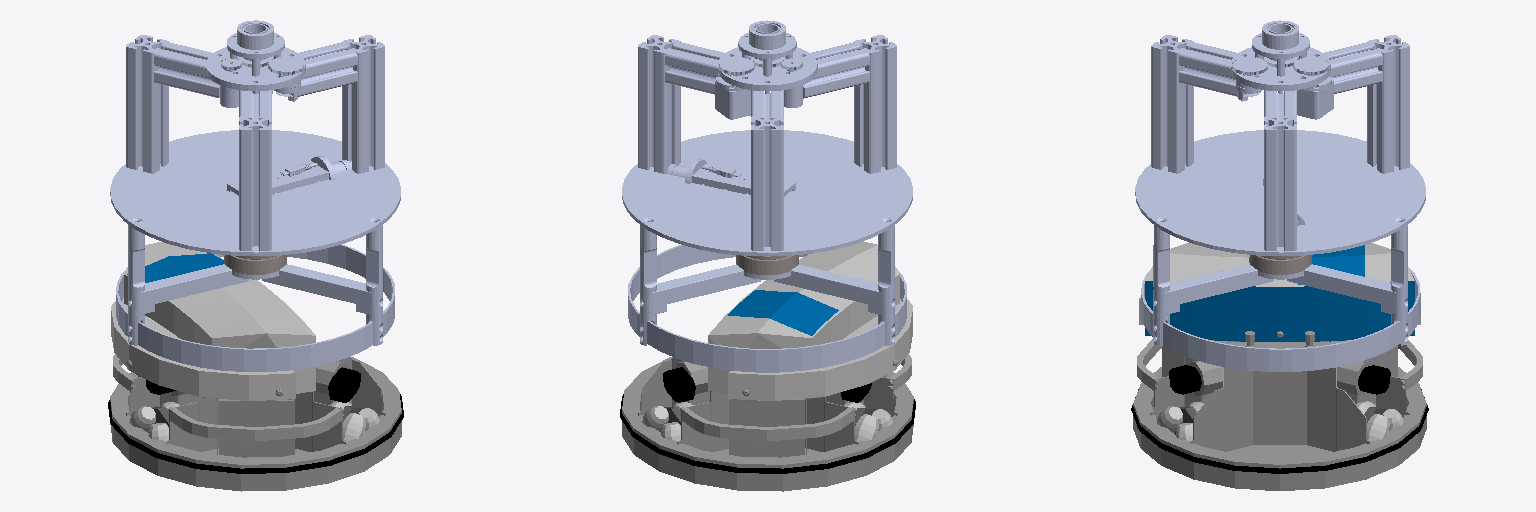
robot.urdf — robotino:
<?xml version="1.0" encoding="utf-8"?>
<!-- =================================================================================== -->
<!-- |    This document was autogenerated by xacro from robotino_sim.urdf.xacro        | -->
<!-- |    EDITING THIS FILE BY HAND IS NOT RECOMMENDED                                 | -->
<!-- =================================================================================== -->
<robot name="robotino">
  <!-- 20 -->
  <!-- Space btw top of beam and the each joint -->
  <!-- Space btw top of beam and the each joint -->
  <link name="world"/>
  <joint name="joint_x" type="prismatic">
    <parent link="world"/>
    <child link="int_link_xy"/>
    <origin rpy="0 0 0" xyz="0 0 0"/>
    <axis xyz="1 0 0"/>
    <limit effort="10" lower="-1000" upper="1000" velocity="10"/>
  </joint>
  <link name="int_link_xy">
    <inertial>
      <mass value="0.1"/>
      <origin xyz="0 0 0"/>
      <inertia ixx="0.0001" ixy="0.0" ixz="0.0" iyy="0.0001" iyz="0.0" izz="0.0001"/>
    </inertial>
  </link>
  <joint name="joint_y" type="prismatic">
    <parent link="int_link_xy"/>
    <child link="int_link_yw"/>
    <origin rpy="0 0 0" xyz="0 0 0"/>
    <axis xyz="0 1 0"/>
    <limit effort="10" lower="-1000" upper="1000" velocity="10"/>
  </joint>
  <link name="int_link_yw">
    <inertial>
      <mass value="0.1"/>
      <origin xyz="0 0 0"/>
      <inertia ixx="0.0001" ixy="0.0" ixz="0.0" iyy="0.0001" iyz="0.0" izz="0.0001"/>
    </inertial>
  </link>
  <joint name="revolute_w" type="continuous">
    <origin rpy="0 0 0" xyz="0 0 0"/>
    <parent link="int_link_yw"/>
    <child link="base_link"/>
    <axis xyz="0 0 1"/>
  </joint>
  <!-- base_link -->
  <link name="base_link"/>
  <joint name="base_body_joint" type="fixed">
    <parent link="base_link"/>
    <child link="base_body_link"/>
    <origin rpy="0 0 0" xyz="0 0 0"/>
  </joint>
  <link name="base_body_link">
    <inertial>
      <mass value="0.5"/>
      <origin xyz="0 0 0.05"/>
      <inertia ixx="0.8750" ixy="0.0" ixz="0.0" iyy="0.875" iyz="0.0" izz="1"/>
    </inertial>
    <visual>
      <origin rpy="0 0 1.570795" xyz="0.01 0 0"/>
      <geometry>
        <mesh filename="package://robotino_description/meshes/parts/robotino_base.dae" scale="0.01 0.01 0.01"/>
      </geometry>
    </visual>
    <collision>
      <origin rpy="0 0 1.570795" xyz="0 0 0"/>
      <geometry>
        <mesh filename="package://robotino_description/meshes/parts/robotino_base.stl" scale="0.01 0.01 0.01"/>
      </geometry>
    </collision>
  </link>
  <gazebo reference="base_link">
    <material>Gazebo/White</material>
    <turnGravityOff>false</turnGravityOff>
  </gazebo>
  <link name="wheel0_link">
    <inertial>
      <mass value="2"/>
      <origin rpy="0 0 0" xyz="0 0 0"/>
      <inertia ixx="0.04" ixy="0.0" ixz="0.0" iyy="0.04" iyz="0.0" izz="0.04"/>
    </inertial>
    <visual>
      <origin rpy="0 0 0" xyz="0 0 0"/>
      <geometry>
        <mesh filename="package://robotino_description/meshes/parts/robotino_wheel.dae" scale="0.01 0.01 0.01"/>
      </geometry>
    </visual>
    <collision>
      <origin rpy="0 1.570795 0" xyz="0 0 0"/>
      <geometry>
        <cylinder length="0.04" radius="0.04"/>
      </geometry>
    </collision>
  </link>
  <gazebo reference="wheel0_link">
    <material>Gazebo/Yellow</material>
    <turnGravityOff>false</turnGravityOff>
    <kp value="1000000"/>
    <kd value="1"/>
    <mu2 value="0"/>
    <mu1 value="0"/>
  </gazebo>
  <joint name="wheel0_joint" type="continuous">
    <origin rpy="0 0 1.04719666667" xyz="0.065 0.11 0.04"/>
    <axis xyz="-1 0 0"/>
    <parent link="base_link"/>
    <child link="wheel0_link"/>
  </joint>
  <link name="wheel1_link">
    <inertial>
      <mass value="2"/>
      <origin rpy="0 0 0" xyz="0 0 0"/>
      <inertia ixx="0.04" ixy="0.0" ixz="0.0" iyy="0.04" iyz="0.0" izz="0.04"/>
    </inertial>
    <visual>
      <origin rpy="0 0 0" xyz="0 0 0"/>
      <geometry>
        <mesh filename="package://robotino_description/meshes/parts/robotino_wheel.dae" scale="0.01 0.01 0.01"/>
      </geometry>
    </visual>
    <collision>
      <origin rpy="0 1.570795 0" xyz="0 0 0"/>
      <geometry>
        <cylinder length="0.04" radius="0.04"/>
      </geometry>
    </collision>
  </link>
  <gazebo reference="wheel1_link">
    <material>Gazebo/Yellow</material>
    <turnGravityOff>false</turnGravityOff>
    <kp value="1000000"/>
    <kd value="1"/>
    <mu2 value="0"/>
    <mu1 value="0"/>
  </gazebo>
  <joint name="wheel1_joint" type="continuous">
    <origin rpy="0 0 3.14159" xyz="-0.13 0 0.04"/>
    <axis xyz="1 0 0"/>
    <parent link="base_link"/>
    <child link="wheel1_link"/>
  </joint>
  <link name="wheel2_link">
    <inertial>
      <mass value="2"/>
      <origin rpy="0 0 0" xyz="0 0 0"/>
      <inertia ixx="0.04" ixy="0.0" ixz="0.0" iyy="0.04" iyz="0.0" izz="0.04"/>
    </inertial>
    <visual>
      <origin rpy="0 0 0" xyz="0 0 0"/>
      <geometry>
        <mesh filename="package://robotino_description/meshes/parts/robotino_wheel.dae" scale="0.01 0.01 0.01"/>
      </geometry>
    </visual>
    <collision>
      <origin rpy="0 1.570795 0" xyz="0 0 0"/>
      <geometry>
        <cylinder length="0.04" radius="0.04"/>
      </geometry>
    </collision>
  </link>
  <gazebo reference="wheel2_link">
    <material>Gazebo/Yellow</material>
    <turnGravityOff>false</turnGravityOff>
    <kp value="1000000"/>
    <kd value="1"/>
    <mu2 value="0"/>
    <mu1 value="0"/>
  </gazebo>
  <joint name="wheel2_joint" type="continuous">
    <origin rpy="0 0 -1.04719666667" xyz="0.065 -0.11 0.04"/>
    <axis xyz="-1 0 0"/>
    <parent link="base_link"/>
    <child link="wheel2_link"/>
  </joint>
  <link name="lasersensor_link">
    <inertial>
      <origin rpy="0 0 0" xyz="-0.00056497 7.11770000114844E-09 0.018756"/>
      <mass value="0.015915"/>
      <inertia ixx="7.2795244626149E-05" ixy="8.59363271873857E-12" ixz="-1.00192037963258E-06" iyy="7.06968247556297E-05" iyz="-1.1608849365102E-11" izz="0.000102602650447107"/>
    </inertial>
    <visual>
      <origin rpy="1.5707963267949 0 0" xyz="0 0 -0.018756"/>
      <geometry>
        <mesh filename="package://robotino_description/lidar/meshes/lidar.STL"/>
      </geometry>
      <material name="">
        <color rgba="0.64314 0.61569 0.6 1"/>
      </material>
    </visual>
    <collision>
      <origin rpy="1.5707963267949 0 0" xyz="0 0 -0.018756"/>
      <geometry>
        <mesh filename="package://robotino_description/lidar/meshes/lidar.STL"/>
      </geometry>
    </collision>
  </link>
  <gazebo reference="lasersensor_link">
    <material>Gazebo/Black</material>
    <turnGravityOff>false</turnGravityOff>
  </gazebo>
  <joint name="lasersensor_joint" type="fixed">
    <origin rpy="0 0 0" xyz="0.0 0 0.26"/>
    <parent link="base_link"/>
    <child link="lasersensor_link"/>
  </joint>
  <link name="pantilt_link">
    <inertial>
      <origin rpy="0 0 0" xyz="-0.00076068 0.053384 -0.00086946"/>
      <mass value="0.17709"/>
      <inertia ixx="0.022066" ixy="0.00017957" ixz="-1.0212E-05" iyy="0.016545" iyz="0.00019743" izz="0.022127"/>
    </inertial>
    <visual>
      <origin rpy="0 0 0" xyz="0 0 0"/>
      <geometry>
        <mesh filename="package://robotino_description/pantiltholder/meshes/camerabase_Link.STL"/>
      </geometry>
      <material name="">
        <color rgba="0.79216 0.81961 0.93333 1"/>
      </material>
    </visual>
    <collision>
      <origin rpy="0 0 0" xyz="0 0 0"/>
      <geometry>
        <mesh filename="package://robotino_description/pantiltholder/meshes/camerabase_Link.STL"/>
      </geometry>
    </collision>
  </link>
  <gazebo reference="pantilt_link">
    <turnGravityOff>false</turnGravityOff>
  </gazebo>
  <joint name="pantilt_joint" type="fixed">
    <origin rpy="0 0 0" xyz="0.0 0 0.33"/>
    <parent link="base_link"/>
    <child link="pantilt_link"/>
  </joint>
  <link name="pantiltring_link">
    <inertial>
      <origin rpy="0 0 0" xyz="4.0968E-16 -0.015 9.18454765366783E-19"/>
      <mass value="0.094154"/>
      <inertia ixx="0.001312241311471" ixy="-6.9590790831882E-33" ixz="-1.3339474659106E-34" iyy="0.00261035959316777" iyz="-7.94841947889434E-20" izz="0.00131224131147099"/>
    </inertial>
    <visual>
      <origin rpy="0 0 0" xyz="0 0 0"/>
      <geometry>
        <mesh filename="package://robotino_description/ring/meshes/ring.STL"/>
      </geometry>
      <material name="">
        <color rgba="0.79216 0.81961 0.93333 1"/>
      </material>
    </visual>
    <collision>
      <origin rpy="0 0 0" xyz="0 0 0"/>
      <geometry>
        <mesh filename="package://robotino_description/ring/meshes/ring.STL"/>
      </geometry>
    </collision>
  </link>
  <gazebo reference="pantiltring_link">
    <turnGravityOff>false</turnGravityOff>
  </gazebo>
  <joint name="pantiltring_joint" type="fixed">
    <origin rpy="0 0 0" xyz="0.0 0 0.173"/>
    <parent link="base_link"/>
    <child link="pantiltring_link"/>
  </joint>
  <link name="cameraholder_link">
    <inertial>
      <origin rpy="0 0 0" xyz="0.08119 -9.6149E-11 -0.006335"/>
      <mass value="0.061321"/>
      <inertia ixx="1.6538E-06" ixy="1.156E-14" ixz="1.0178E-05" iyy="7.7966E-05" iyz="-6.9072E-14" izz="7.6312E-05"/>
    </inertial>
    <visual>
      <origin rpy="0 0 0" xyz="0 0 -0.32"/>
      <geometry>
        <mesh filename="package://robotino_description/pantiltholder/meshes/cameraholder_Link.STL"/>
      </geometry>
      <material name="">
        <color rgba="0.79216 0.81961 0.93333 1"/>
      </material>
    </visual>
    <collision>
      <origin rpy="0 0 0" xyz="0 0 0"/>
      <geometry>
        <mesh filename="package://robotino_description/pantiltholder/meshes/cameraholder_Link.STL"/>
      </geometry>
    </collision>
  </link>
  <joint name="cameraholder_joint" type="continuous">
    <origin rpy="0 0 0" xyz="0.0 0 0.32"/>
    <origin rpy="0.050256 -1.5708 0" xyz="0 0 0"/>
    <parent link="pantilt_link"/>
    <child link="cameraholder_link"/>
    <axis xyz="0 0 1"/>
  </joint>
  <transmission name="cameraholder_joint_trans">
    <type>transmission_interface/SimpleTransmission</type>
    <joint name="cameraholder_joint">
      <hardwareInterface>hardware_interface/PositionJointInterface</hardwareInterface>
    </joint>
    <actuator name="cameraholder_motor">
      <hardwareInterface>hardware_interface/PositionJointInterface</hardwareInterface>
      <mechanicalReducation>1</mechanicalReducation>
    </actuator>
  </transmission>
  <link name="imu_link">
    <visual>
      <origin rpy="0 0 0" xyz="0 0 0"/>
      <geometry>
        <box size="0.018 0.016 0.007"/>
      </geometry>
      <material name="xsens-orange"/>
    </visual>
    <collision>
      <origin rpy="0 0 0" xyz="0 0 0"/>
      <geometry>
        <box size="0.057 0.041 0.024"/>
      </geometry>
    </collision>
    <inertial>
      <mass value="0"/>
      <origin xyz="0 0 0"/>
      <inertia ixx="1.60333333333e-05" ixy="0.0" ixz="0.0" iyy="2.80333333333e-05" iyz="0.0" izz="1.60333333333e-05"/>
    </inertial>
  </link>
  <joint name="cameraholder_link_to_imu_link" type="fixed">
    <parent link="cameraholder_link"/>
    <child link="imu_link"/>
    <origin rpy="0 0 0" xyz="0 0 0"/>
  </joint>
  <material name="xsens-orange">
    <color rgba="0.8862745098 0.56862745098 0.09019607843 1"/>
  </material>
  <!-- gazebo control -->
  <gazebo reference="lasersensor_link">
    <sensor name="head_hokuyo_sensor" type="ray">
      <pose>0 0 0 0 0 0</pose>
      <visualize>true</visualize>
      <update_rate>20</update_rate>
      <ray>
        <scan>
          <horizontal>
            <!-- <samples>720</samples> -->
            <samples>300</samples>
            <resolution>1</resolution>
            <min_angle>-3.14159</min_angle>
            <!-- -1.570796 -->
            <max_angle>+3.14159</max_angle>
            <!-- 1.570796 -->
          </horizontal>
        </scan>
        <range>
          <min>0.10</min>
          <max>12.0</max>
          <resolution>0.01</resolution>
        </range>
        <noise>
          <type>gaussian</type>
          <mean>0.0</mean>
          <stddev>0.01</stddev>
        </noise>
      </ray>
      <plugin filename="libgazebo_ros_laser.so" name="gazebo_ros_head_hokuyo_controller">
        <topicName>robot/laser/scan</topicName>
        <robotNamespace>/</robotNamespace>
        <frameName>lasersensor_link</frameName>
      </plugin>
    </sensor>
  </gazebo>
  <gazebo>
    <!--plugin name="object_controller" filename="libgazebo_ros_planar_move.so">
                <commandTopic>cmd_vel</commandTopic>
                <odometryTopic>odom</odometryTopic>
                <odometryFrame>odom</odometryFrame>
                <odometryRate>20</odometryRate>
                <robotBaseFrame>base_link</robotBaseFrame>
            </plugin-->
    <!--plugin name="robotino_odometry" filename="libgazebo_ros_p3d.so">
              <alwaysOn>true</alwaysOn>
              <updateRate>100.0</updateRate>
              <bodyName>base_link</bodyName>
              <topicName>odom</topicName>
              <gaussianNoise>0.0</gaussianNoise>
              <frameName>map</frameName>
              <xyzOffsets>0 0 0</xyzOffsets>
              <rpyOffsets>0 0 0</rpyOffsets>
            </plugin-->
    <plugin filename="librobotino_plugin.so" name="robotino_plugin">
      <jointName>wheel0_joint, wheel1_joint, wheel2_joint, joint_x, joint_y, revolute_w, cameraholder_joint
                </jointName>
    </plugin>
  </gazebo>
  <gazebo>
    <plugin filename="libgazebo_ros_control.so" name="gazebo_ros_control">
      <robotNamespace>/rrbot</robotNamespace>
    </plugin>
  </gazebo>
  <!-- imu -->
  <gazebo>
    <plugin filename="libhector_gazebo_ros_imu.so" name="imu_controller">
      <updateRate>50.0</updateRate>
      <bodyName>base_link</bodyName>
      <topicName>imu/data</topicName>
      <serviceName>imu_service</serviceName>
      <frame_id>odom</frame_id>
      <alwaysOn>true</alwaysOn>
      <accelDrift>0.005 0.005 0.005</accelDrift>
      <accelGaussianNoise>0.005 0.005 0.005</accelGaussianNoise>
      <rateDrift>0.005 0.005 0.005 </rateDrift>
      <rateGaussianNoise>0.005 0.005 0.005 </rateGaussianNoise>
      <headingDrift>0.005</headingDrift>
      <headingGaussianNoise>0.005</headingGaussianNoise>
    </plugin>
  </gazebo>
  <material name="aluminum">
    <color rgba="0.5 0.5 0.5 1"/>
  </material>
  <!-- camera body, with origin at bottom screw mount -->
  <joint name="camera_joint" type="fixed">
    <origin rpy="0 0 0" xyz="0 0 0"/>
    <parent link="cameraholder_link"/>
    <child link="camera_bottom_screw_frame"/>
  </joint>
  <link name="camera_bottom_screw_frame"/>
  <joint name="camera_link_joint" type="fixed">
    <origin rpy="1.57079632679 0 0" xyz="0.0175 0 0.0125"/>
    <!--origin xyz="0 ${d435_cam_depth_py} ${d435_cam_depth_pz}" rpy="0 0 0"/-->
    <parent link="camera_bottom_screw_frame"/>
    <child link="camera_link"/>
  </joint>
  <link name="camera_link">
    <visual>
      <origin rpy="1.57079632679 0 1.57079632679" xyz="0.0149 -0.0175 0"/>
      <geometry>
        <mesh filename="package://realsense2_description/meshes/d435.dae"/>
      </geometry>
    </visual>
    <collision>
      <origin rpy="0 0 0" xyz="0 -0.0175 0"/>
      <geometry>
        <box size="0.02505 0.09 0.025"/>
      </geometry>
    </collision>
    <inertial>
      <!-- The following are not reliable values, and should not be used for modeling -->
      <mass value="0.564"/>
      <origin xyz="0 0 0"/>
      <inertia ixx="0.003881243" ixy="0.0" ixz="0.0" iyy="0.000498940" iyz="0.0" izz="0.003879257"/>
    </inertial>
  </link>
  <!-- camera depth joints and links -->
  <joint name="camera_depth_joint" type="fixed">
    <origin rpy="0 0 0" xyz="0 0 0"/>
    <parent link="camera_link"/>
    <child link="camera_depth_frame"/>
  </joint>
  <link name="camera_depth_frame"/>
  <joint name="camera_depth_optical_joint" type="fixed">
    <origin rpy="-1.57079632679 0 -1.57079632679" xyz="0 0 0"/>
    <parent link="camera_depth_frame"/>
    <child link="camera_depth_optical_frame"/>
  </joint>
  <link name="camera_depth_optical_frame"/>
  <!-- camera left IR joints and links -->
  <joint name="camera_left_ir_joint" type="fixed">
    <origin rpy="0 0 0" xyz="0 0.0 0"/>
    <parent link="camera_depth_frame"/>
    <child link="camera_left_ir_frame"/>
  </joint>
  <link name="camera_left_ir_frame"/>
  <joint name="camera_left_ir_optical_joint" type="fixed">
    <origin rpy="-1.57079632679 0 -1.57079632679" xyz="0 0 0"/>
    <parent link="camera_left_ir_frame"/>
    <child link="camera_left_ir_optical_frame"/>
  </joint>
  <link name="camera_left_ir_optical_frame"/>
  <!-- camera right IR joints and links -->
  <joint name="camera_right_ir_joint" type="fixed">
    <origin rpy="0 0 0" xyz="0 -0.05 0"/>
    <parent link="camera_depth_frame"/>
    <child link="camera_right_ir_frame"/>
  </joint>
  <link name="camera_right_ir_frame"/>
  <joint name="camera_right_ir_optical_joint" type="fixed">
    <origin rpy="-1.57079632679 0 -1.57079632679" xyz="0 0 0"/>
    <parent link="camera_right_ir_frame"/>
    <child link="camera_right_ir_optical_frame"/>
  </joint>
  <link name="camera_right_ir_optical_frame"/>
  <!-- camera color joints and links -->
  <joint name="camera_color_joint" type="fixed">
    <origin rpy="0 0 0" xyz="0 0.015 0"/>
    <parent link="camera_depth_frame"/>
    <child link="camera_color_frame"/>
  </joint>
  <link name="camera_color_frame"/>
  <joint name="camera_color_optical_joint" type="fixed">
    <origin rpy="-1.57079632679 0 -1.57079632679" xyz="0 0 0"/>
    <parent link="camera_color_frame"/>
    <child link="camera_color_optical_frame"/>
  </joint>
  <link name="camera_color_optical_frame"/>
  <gazebo reference="camera_link">
    <self_collide>0</self_collide>
    <enable_wind>0</enable_wind>
    <kinematic>0</kinematic>
    <gravity>1</gravity>
    <!--<mu>1</mu>-->
    <mu2>1</mu2>
    <fdir1>0 0 0</fdir1>
    <!--<slip1>0</slip1>
      <slip2>0</slip2>-->
    <kp>1e+13</kp>
    <kd>1</kd>
    <!--<max_vel>0.01</max_vel>
      <min_depth>0</min_depth>-->
    <sensor name="cameracolor" type="camera">
      <camera name="camera">
        <horizontal_fov>1.4870205227</horizontal_fov>
        <!--69.4-->
        <image>
          <width>1280</width>
          <!--1920*1080-->
          <height>720</height>
          <format>RGB_INT8</format>
        </image>
        <clip>
          <near>0.1</near>
          <far>100</far>
        </clip>
        <noise>
          <type>gaussian</type>
          <mean>0.0</mean>
          <stddev>0.007</stddev>
        </noise>
      </camera>
      <always_on>1</always_on>
      <update_rate>30</update_rate>
      <visualize>1</visualize>
    </sensor>
    <sensor name="cameraired1" type="camera">
      <camera name="camera">
        <horizontal_fov>1.4870205227</horizontal_fov>
        <image>
          <width>1280</width>
          <height>720</height>
          <format>L_INT8</format>
        </image>
        <clip>
          <near>0.1</near>
          <far>100</far>
        </clip>
        <noise>
          <type>gaussian</type>
          <mean>0.0</mean>
          <stddev>0.05</stddev>
        </noise>
      </camera>
      <always_on>0</always_on>
      <update_rate>90</update_rate>
      <visualize>0</visualize>
    </sensor>
    <sensor name="cameraired2" type="camera">
      <camera name="camera">
        <horizontal_fov>1.4870205227</horizontal_fov>
        <image>
          <width>1280</width>
          <height>720</height>
          <format>L_INT8</format>
        </image>
        <clip>
          <near>0.1</near>
          <far>100</far>
        </clip>
        <noise>
          <type>gaussian</type>
          <mean>0.0</mean>
          <stddev>0.05</stddev>
        </noise>
      </camera>
      <always_on>0</always_on>
      <update_rate>90</update_rate>
      <visualize>0</visualize>
    </sensor>
    <sensor name="cameradepth" type="depth">
      <camera name="camera">
        <horizontal_fov>1.4870205227</horizontal_fov>
        <image>
          <width>1280</width>
          <height>720</height>
        </image>
        <clip>
          <near>0.1</near>
          <far>100</far>
        </clip>
        <noise>
          <type>gaussian</type>
          <mean>0.0</mean>
          <stddev>0.100</stddev>
        </noise>
      </camera>
      <always_on>1</always_on>
      <update_rate>30</update_rate>
      <visualize>0</visualize>
    </sensor>
  </gazebo>
  <gazebo>
    <plugin filename="librealsense_gazebo_plugin.so" name="camera">
      <prefix>camera</prefix>
      <depthUpdateRate>60.0</depthUpdateRate>
      <colorUpdateRate>60.0</colorUpdateRate>
      <infraredUpdateRate>0.0</infraredUpdateRate>
      <depthTopicName>depth/image_raw</depthTopicName>
      <depthCameraInfoTopicName>depth/camera_info</depthCameraInfoTopicName>
      <colorTopicName>color/image_raw</colorTopicName>
      <colorCameraInfoTopicName>color/camera_info</colorCameraInfoTopicName>
      <infrared1TopicName>infra1/image_raw</infrared1TopicName>
      <infrared1CameraInfoTopicName>infra1/camera_info</infrared1CameraInfoTopicName>
      <infrared2TopicName>infra2/image_raw</infrared2TopicName>
      <infrared2CameraInfoTopicName>infra2/camera_info</infrared2CameraInfoTopicName>
      <colorOpticalframeName>camera_color_optical_frame</colorOpticalframeName>
      <depthOpticalframeName>camera_depth_optical_frame</depthOpticalframeName>
      <infrared1OpticalframeName>camera_left_ir_optical_frame</infrared1OpticalframeName>
      <infrared2OpticalframeName>camera_right_ir_optical_frame</infrared2OpticalframeName>
      <rangeMinDepth>0.2</rangeMinDepth>
      <rangeMaxDepth>3.0</rangeMaxDepth>
      <pointCloud>False</pointCloud>
      <pointCloudTopicName>depth/points</pointCloudTopicName>
      <pointCloudCutoff>0.5</pointCloudCutoff>
      <pointCloudCutoffMax>9.0</pointCloudCutoffMax>
    </plugin>
  </gazebo>
</robot>

--- Facts derived from the render (not from the file) ---
Views: 3 orthographic renders of the robot side by side, from view 1: azimuth 30°, elevation 25°; view 2: azimuth 150°, elevation 25°; view 3: azimuth 270°, elevation 25°.
Robot: robotino — 23 links, 22 joints (5 continuous, 2 prismatic, 15 fixed); root link world; default pose: all joints at 0.
Links seen in each view (by area): view 1: pantilt_link, base_body_link, pantiltring_link, cameraholder_link, wheel1_link, wheel2_link, lasersensor_link; view 2: pantilt_link, base_body_link, pantiltring_link, cameraholder_link, wheel0_link, wheel1_link, lasersensor_link; view 3: pantilt_link, base_body_link, pantiltring_link, wheel0_link, wheel2_link, lasersensor_link.
Link boxes in pixels (x1,y1,x2,y2): pantilt_link: (110, 20, 400, 345); base_body_link: (108, 241, 403, 491); pantiltring_link: (116, 244, 394, 371); cameraholder_link: (227, 156, 351, 195); wheel1_link: (129, 402, 179, 441); wheel2_link: (330, 401, 379, 441); lasersensor_link: (224, 255, 286, 274); pantilt_link: (622, 20, 912, 345); base_body_link: (620, 241, 915, 491); pantiltring_link: (628, 245, 906, 372); cameraholder_link: (666, 159, 795, 196); wheel0_link: (642, 402, 693, 441); wheel1_link: (844, 402, 892, 469); lasersensor_link: (736, 255, 798, 274); pantilt_link: (1135, 20, 1425, 345); base_body_link: (1131, 243, 1428, 490); pantiltring_link: (1141, 267, 1420, 371); wheel0_link: (1356, 401, 1403, 440); wheel2_link: (1157, 402, 1203, 440); lasersensor_link: (1249, 255, 1311, 274).
Size in the robot's own frame: 0.358 by 0.358 by 0.5507 metres.
8 mesh visuals loaded from 7 distinct referenced files (4 binary STL, 2 Collada DAE); not drawn: 1 (reference not matched to a file when rendering).